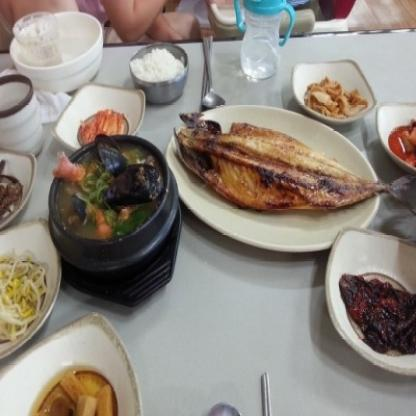Peixe: (173, 104, 404, 230)
